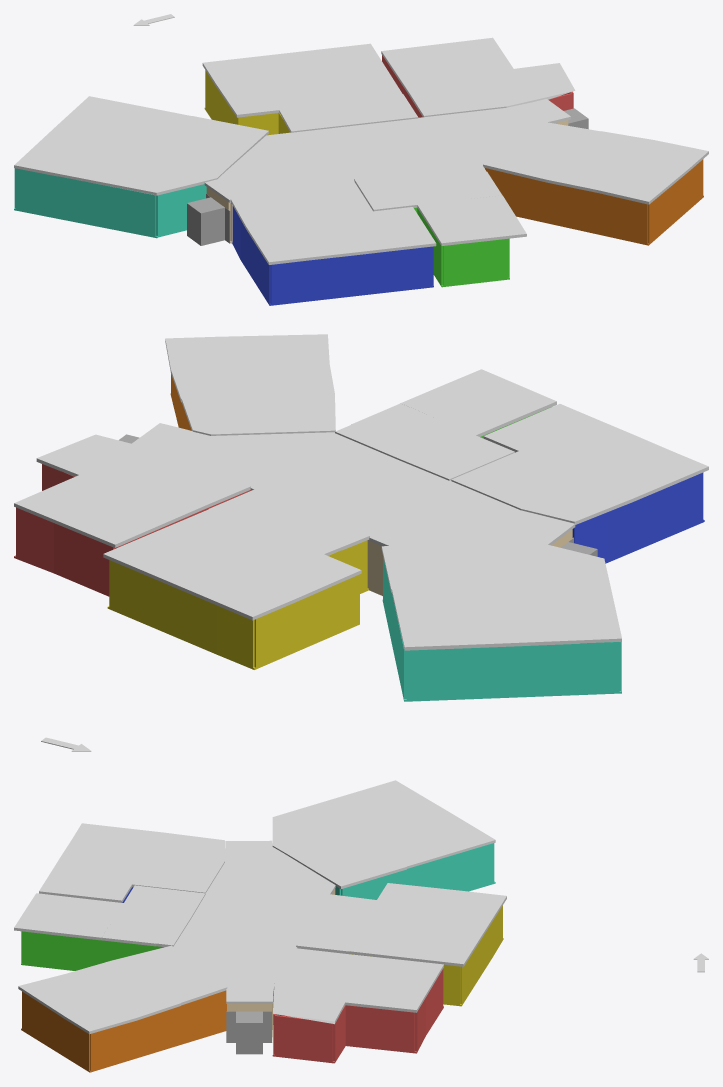
File: Greybox_V5.fbx
The picture shows the model from 3 angles, top to bottom: view 1: azimuth 30°, elevation 25°; view 2: azimuth 150°, elevation 25°; view 3: azimuth 270°, elevation 25°; orthographic projection. The views are drawn at different scales.
Visible parts, largest first — view 1: Celling for Hallway, Cellings R5, Cellings R3, Cellings R6, Cellings R2, Cellings R1, Room 2, Cellings R4, Room 6, Room 5, Room 4, Room 3 (+2 smaller); view 2: Celling for Hallway, Cellings R5, Cellings R3, Cellings R6, Cellings R2, Cellings R1, Room 3, Room 5, Cellings R4, Room 6, Room 1, 25X3X0.1 Floor; view 3: Celling for Hallway, Cellings R5, Cellings R3, Cellings R6, Cellings R2, Cellings R1, Room 2, Cellings R4, Room 1, Room 5, Room 4, Room 3 (+1 smaller).
Part boxes in pixels (<box>): Celling for Hallway: <box>204,99,570,202</box>; Cellings R5: <box>14,96,268,195</box>; Cellings R3: <box>202,43,418,132</box>; Cellings R6: <box>230,179,436,264</box>; Cellings R2: <box>483,121,708,204</box>; Cellings R1: <box>381,37,575,117</box>; Room 2: <box>485,159,703,245</box>; Cellings R4: <box>354,164,526,245</box>; Room 6: <box>232,206,433,305</box>; Room 5: <box>14,168,206,238</box>; Room 4: <box>414,207,509,287</box>; Room 3: <box>204,70,290,135</box>; Celling for Hallway: <box>132,423,575,546</box>; Cellings R5: <box>381,540,621,650</box>; Cellings R3: <box>103,488,369,620</box>; Cellings R6: <box>451,404,708,524</box>; Cellings R2: <box>165,334,335,435</box>; Cellings R1: <box>14,434,250,547</box>; Room 3: <box>107,540,368,669</box>; Room 5: <box>382,556,621,701</box>; Cellings R4: <box>335,369,556,480</box>; Room 6: <box>572,472,704,563</box>; Room 1: <box>14,464,250,596</box>; 25X3X0.1 Floor: <box>367,529,572,595</box>; Celling for Hallway: <box>173,840,335,1003</box>; Cellings R5: <box>272,780,495,888</box>; Cellings R3: <box>296,883,506,966</box>; Cellings R6: <box>39,823,224,902</box>; Cellings R2: <box>18,945,227,1034</box>; Cellings R1: <box>273,948,443,1024</box>; Room 2: <box>21,990,226,1072</box>; Cellings R4: <box>14,885,205,947</box>; Room 1: <box>272,969,443,1063</box>; Room 5: <box>335,843,495,899</box>; Room 4: <box>21,931,163,970</box>; Room 3: <box>349,905,503,1006</box>.
Size of the model in its own units: 7883 by 635 by 9212.
